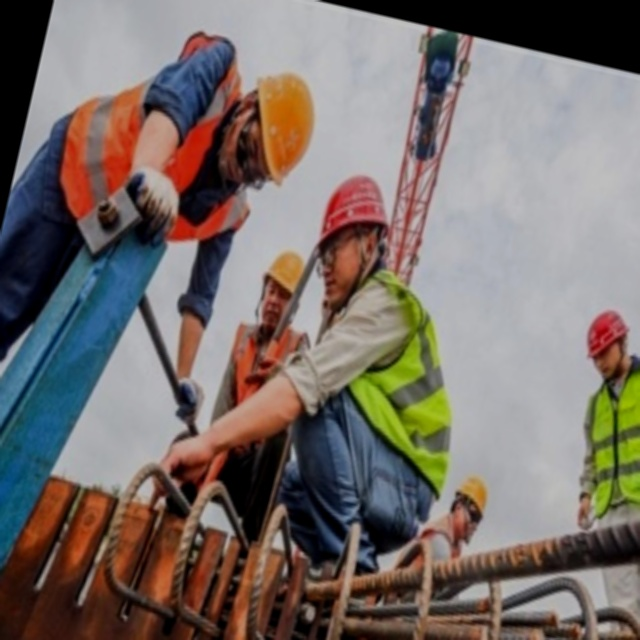Con_Casco: (218, 63, 327, 205), (306, 168, 395, 301), (577, 302, 635, 382)
Con_Chaleco: (327, 266, 490, 484), (570, 355, 640, 525)
